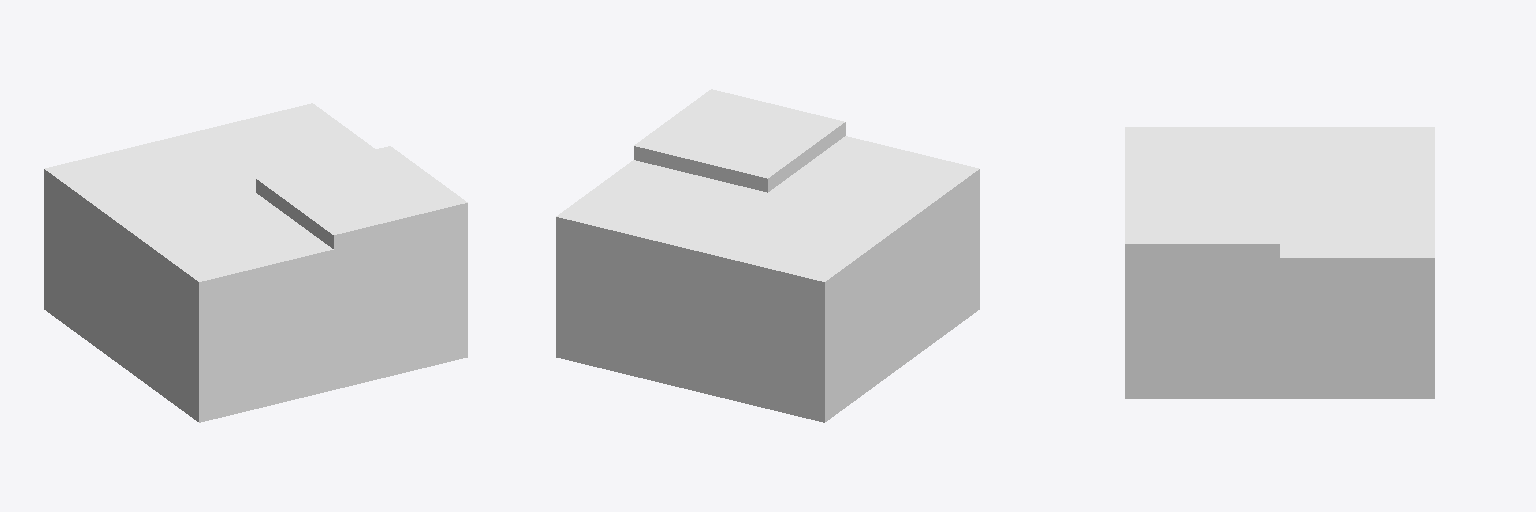
Rendered from Road_3.obj.
3 renders of one model, left to right at view 1: azimuth 30°, elevation 25°; view 2: azimuth 150°, elevation 25°; view 3: azimuth 270°, elevation 25°, orthographic.
Parts seen in each view (by area): view 1: Road_3; view 2: Road_3; view 3: Road_3.
Boxes of the visible parts, <box> form: Road_3: <box>44,103,467,422</box>; Road_3: <box>556,89,979,422</box>; Road_3: <box>1125,127,1434,398</box>.
Size of the model in its own units: 20 by 11 by 20.